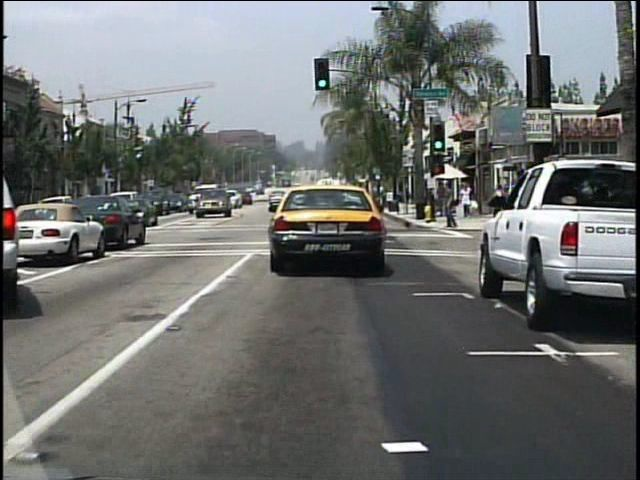person: (443, 182, 459, 231), (461, 180, 475, 218), (435, 182, 449, 218)
